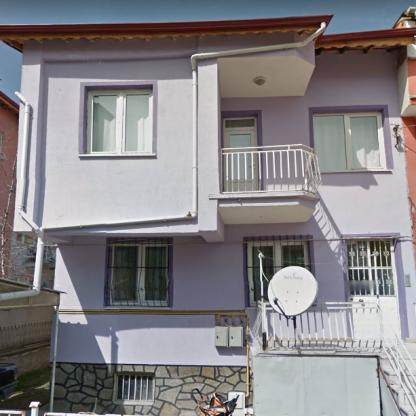door: (346, 241, 400, 340), (225, 118, 256, 190)
window: (312, 113, 383, 172), (92, 93, 151, 153), (111, 245, 169, 304), (251, 242, 306, 304), (117, 375, 153, 401)
